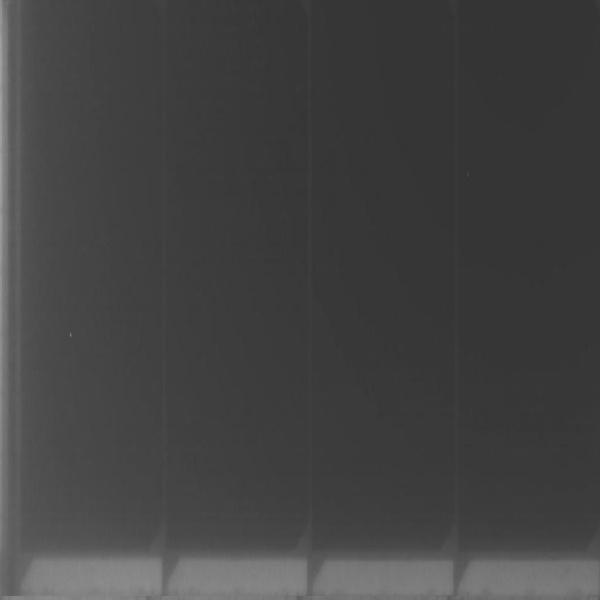no_electricity: (7, 5, 600, 557)
